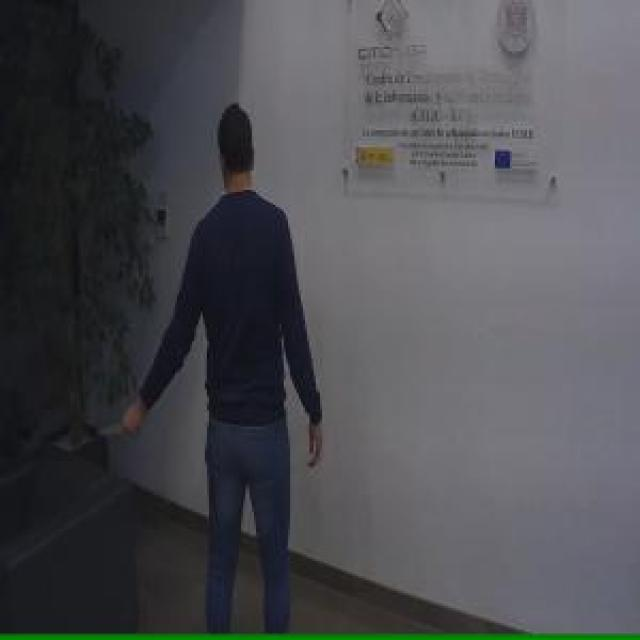knife: (94, 414, 137, 438)
